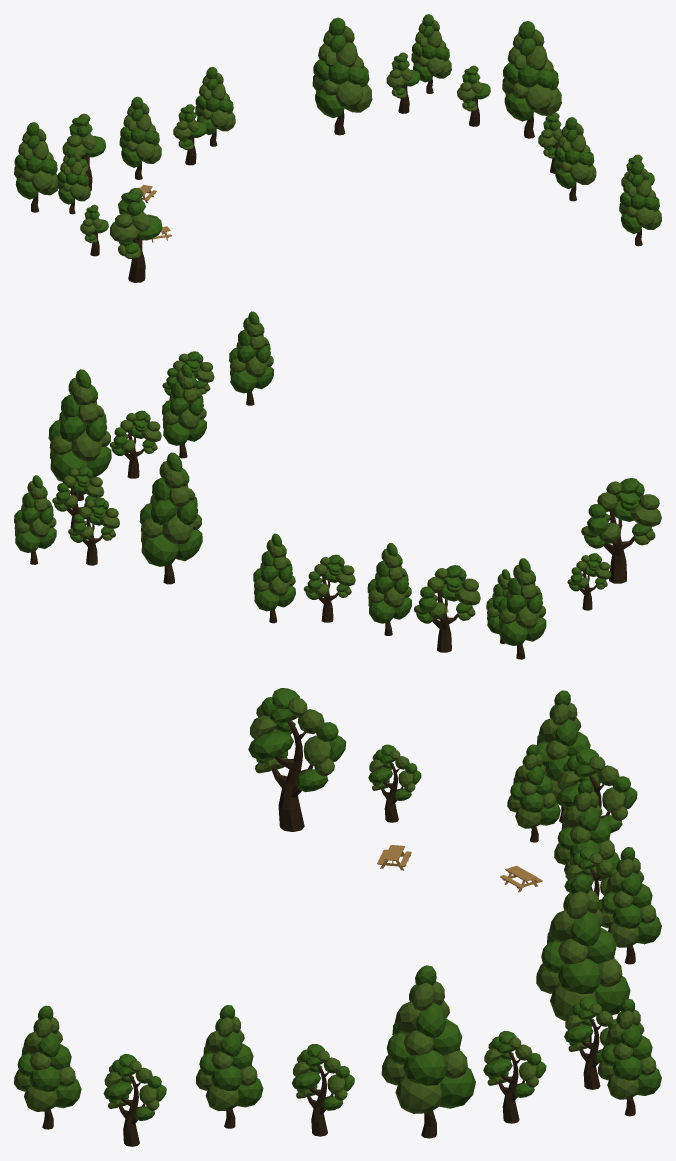
Rendered from Grove.obj.
3 renders of one model, top to bottom at view 1: azimuth 30°, elevation 25°; view 2: azimuth 150°, elevation 25°; view 3: azimuth 270°, elevation 25°, orthographic. The views are drawn at different scales.
Parts seen in each view (by area): view 1: Oak_Cylinder.000_Oak_Cylinder.005; view 2: Oak_Cylinder.000_Oak_Cylinder.005; view 3: Oak_Cylinder.000_Oak_Cylinder.005.
Part boxes in pixels (x1=…): Oak_Cylinder.000_Oak_Cylinder.005: x1=14, y1=14, x2=661, y2=282; Oak_Cylinder.000_Oak_Cylinder.005: x1=14, y1=311, x2=661, y2=659; Oak_Cylinder.000_Oak_Cylinder.005: x1=14, y1=688, x2=661, y2=1146.
Bounding box in the file's own units: 114 × 26.78 × 88.98.
